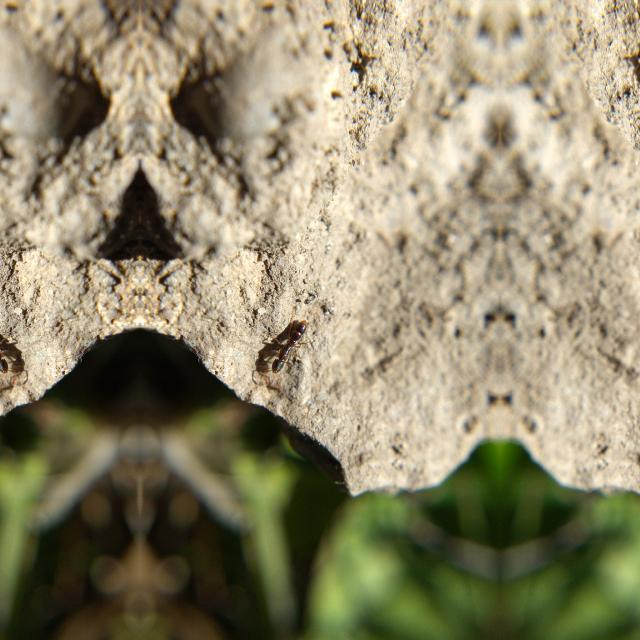Ponera: (262, 300, 324, 392), (0, 298, 18, 392)
